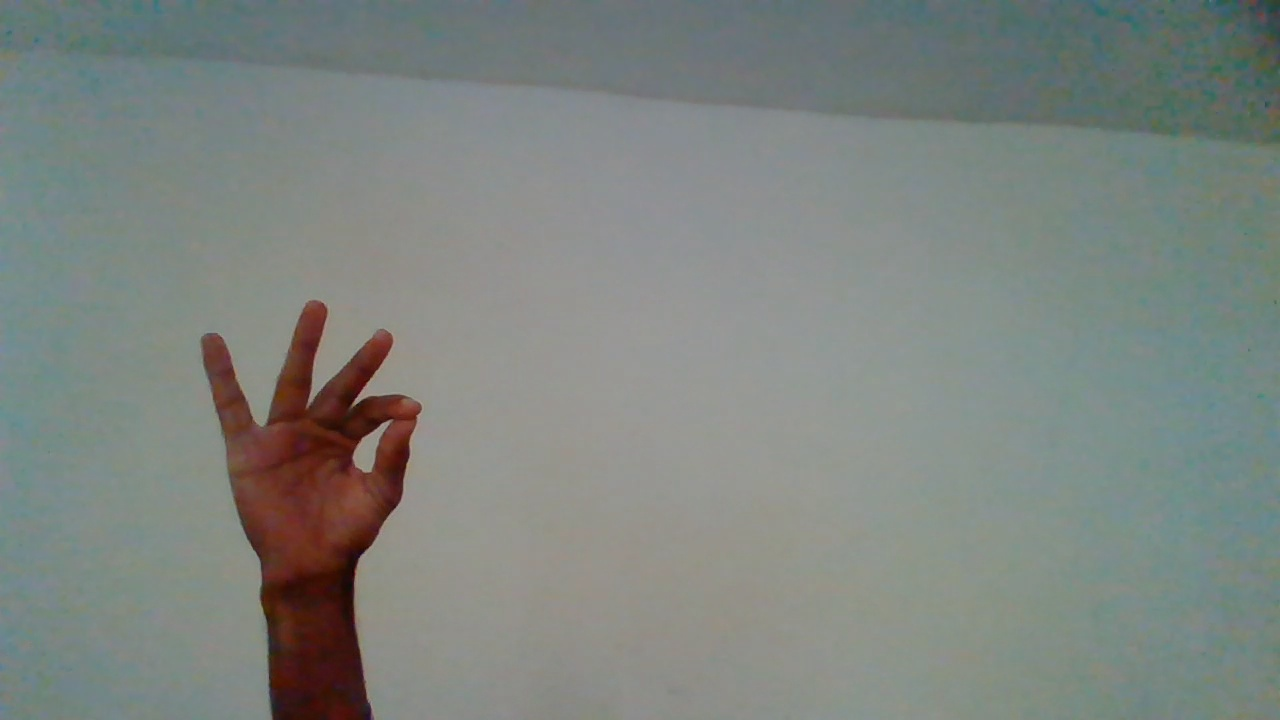le: (198, 298, 417, 696)
